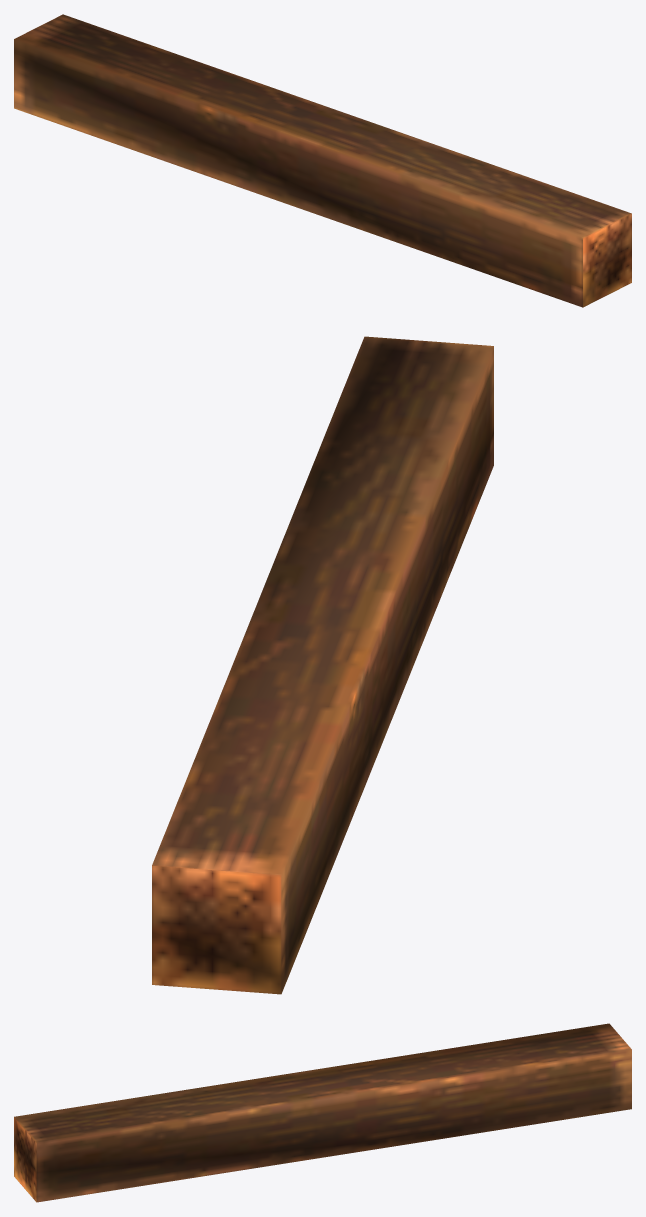
File: SWORDLIGHT20_JAILBRACE58.fbx
3 renders of one model, top to bottom at view 1: azimuth 30°, elevation 25°; view 2: azimuth 150°, elevation 25°; view 3: azimuth 270°, elevation 25°, orthographic. The views are drawn at different scales.
Visible parts, largest first — view 1: SWORDLIGHT20_JAILBRACE58; view 2: SWORDLIGHT20_JAILBRACE58; view 3: SWORDLIGHT20_JAILBRACE58.
Part boxes in pixels (bbox=[...]): SWORDLIGHT20_JAILBRACE58: bbox=[14, 14, 631, 307]; SWORDLIGHT20_JAILBRACE58: bbox=[152, 336, 493, 994]; SWORDLIGHT20_JAILBRACE58: bbox=[14, 1023, 631, 1202].
Bounding box in the file's own units: 17196 × 4000 × 37583.
Materials: 1 (1 with a texture image).
